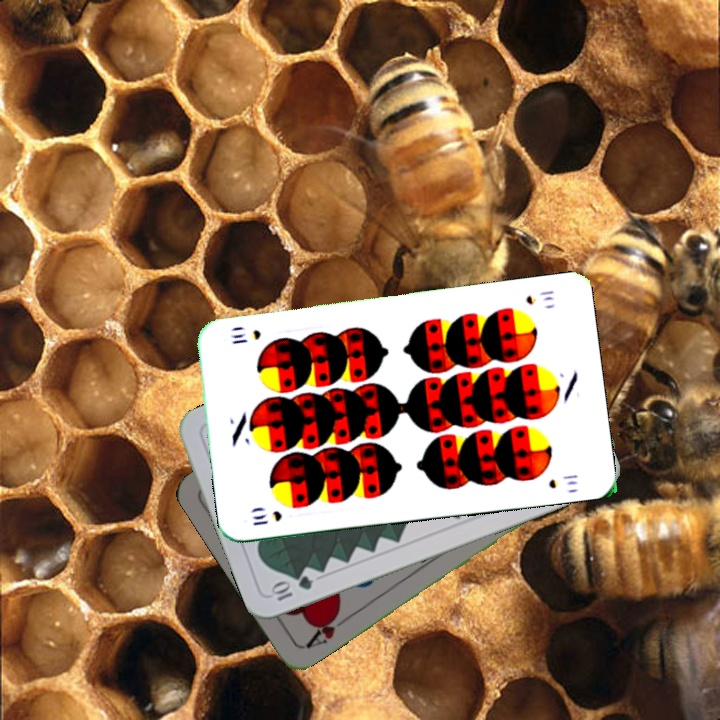G10: (267, 571, 316, 604)
HA: (301, 606, 353, 652)
S10: (248, 507, 285, 528), (522, 286, 557, 307)
